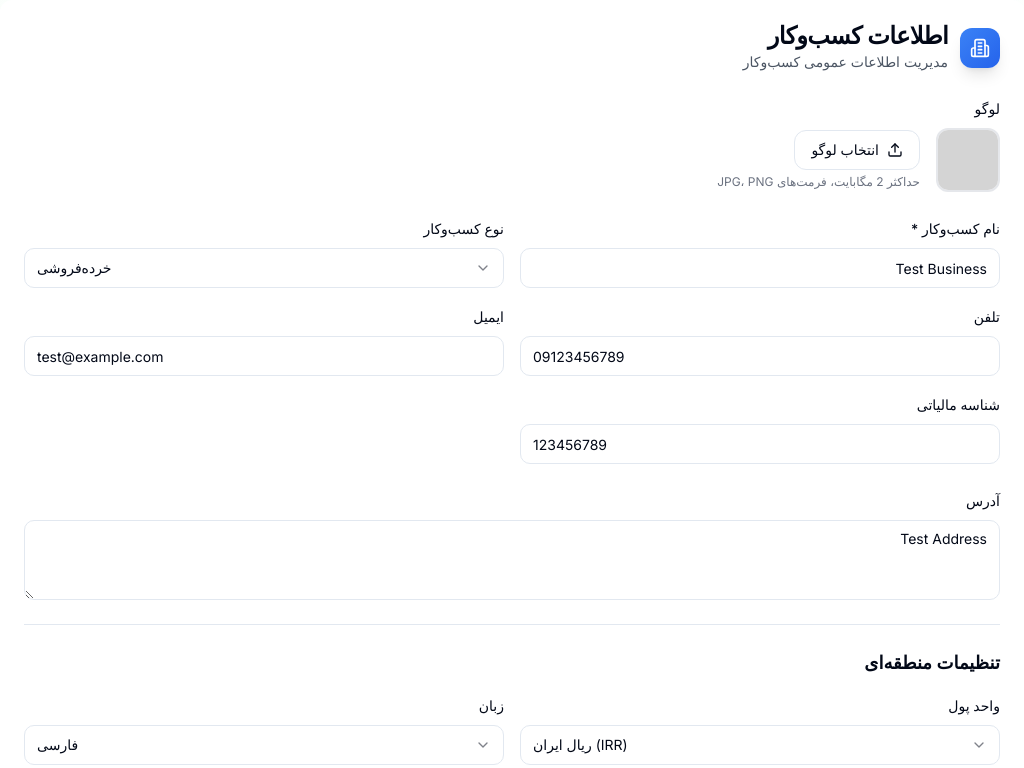
Test: TenantSettings › should handle currency selection
Expected: the heading "اطلاعات کسب‌وکار" is shown, [743, 24, 948, 48]
Note: Find currency select (second combobox)
Click the dropdown labelled "ریال ایران (IRR)".
click(562, 744)  # box [520, 725, 1000, 765]
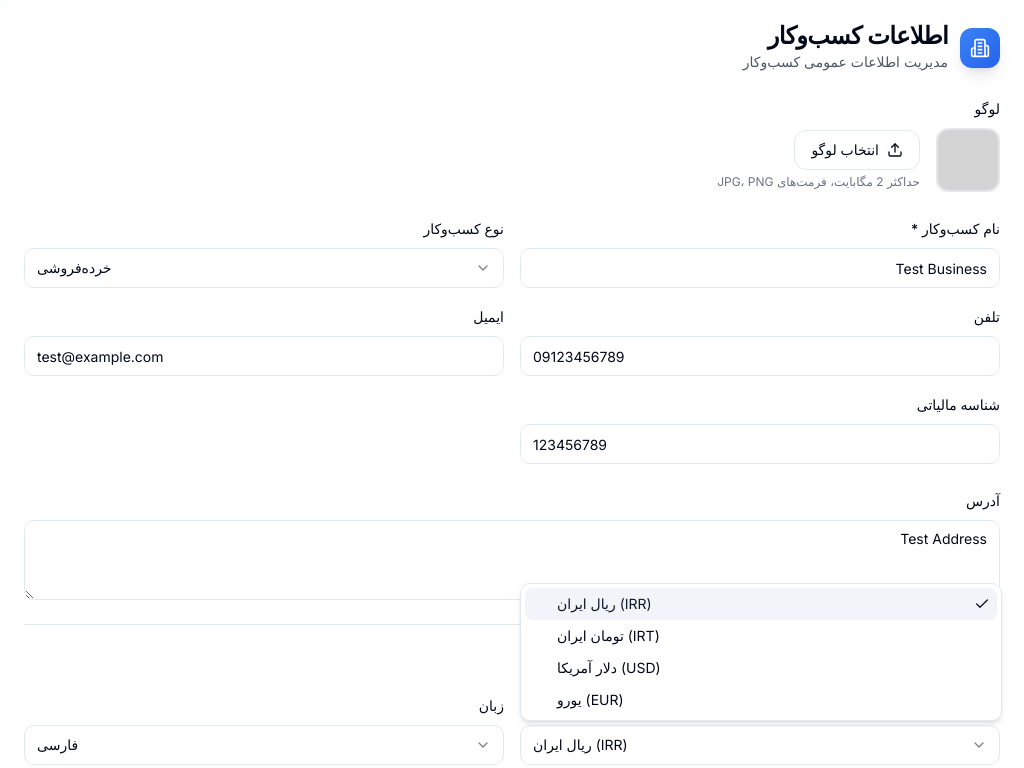
Note: Select USD
Click the option "دلار آمریکا (USD)".
click(609, 668)  # box [557, 659, 661, 676]
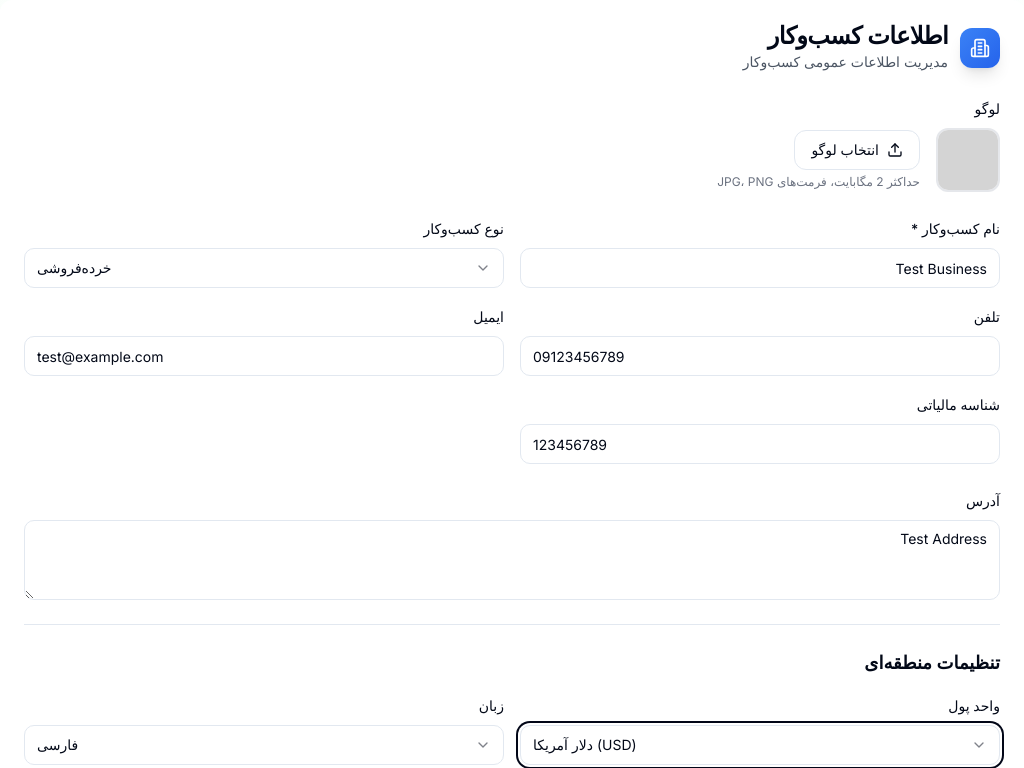
Result: the text "دلار آمریکا (USD)" is shown at [533, 735, 637, 755]
